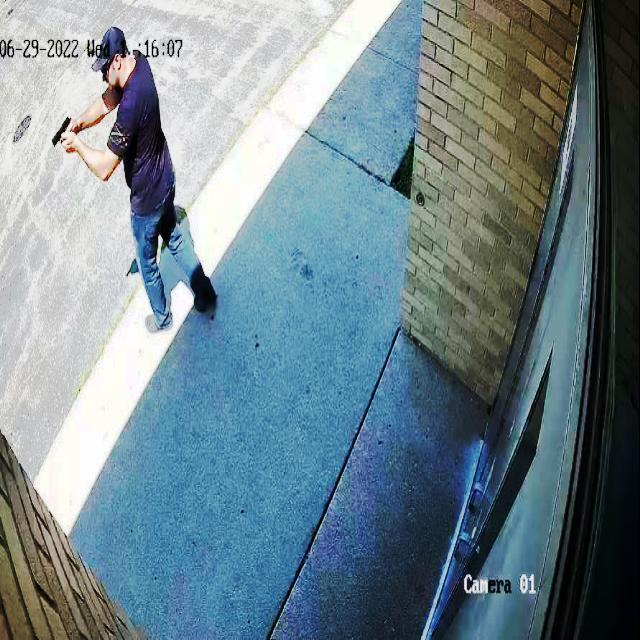Gun: (46, 106, 95, 160)
